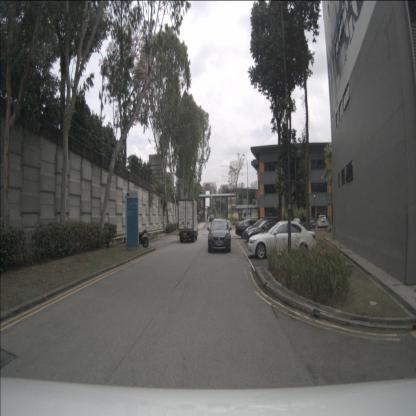vehicle-car: (247, 220, 316, 260), (247, 219, 288, 245), (244, 217, 286, 240), (208, 219, 231, 252), (235, 219, 268, 240), (316, 214, 328, 229), (306, 217, 316, 228), (209, 214, 214, 222)
vehicle-motorcycle: (130, 230, 150, 248)
vehicle-truck: (178, 199, 198, 243)
